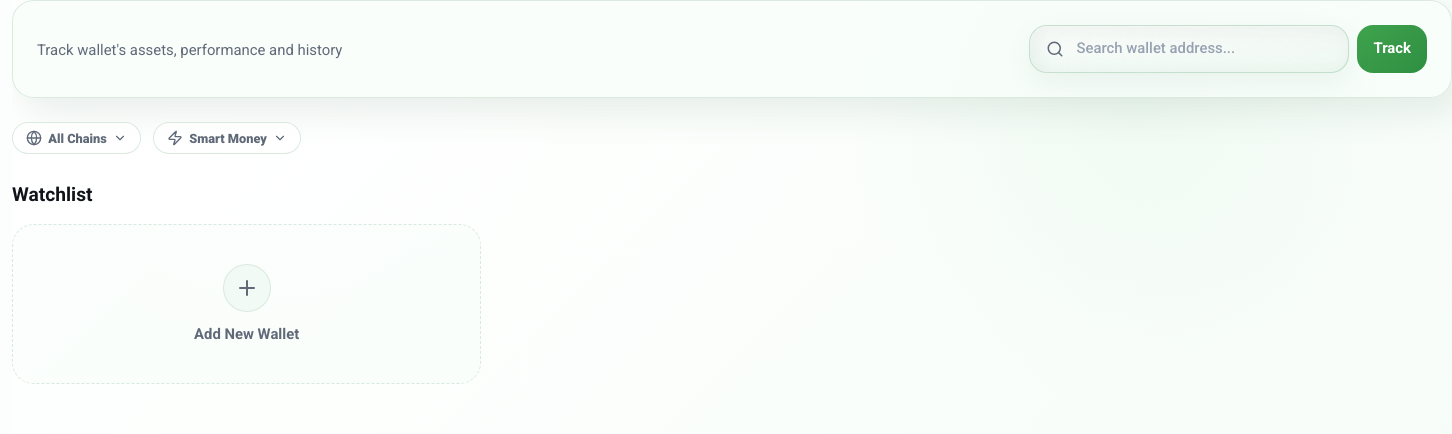
Test case: WalletTracking page › shows an error for invalid wallet search input
Type "0x123" into the field with placeholder "Search wallet address...".
click(1204, 49); type("0x123")  # box [1076,38,1332,60]
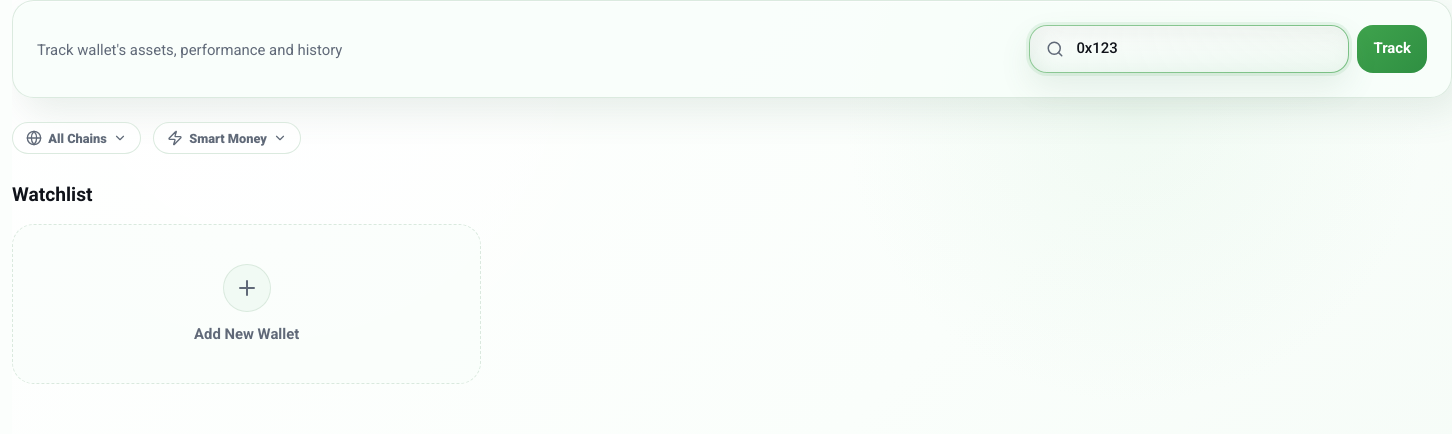
Click the button "Track".
click(1392, 49)  # box [1357,25,1427,73]
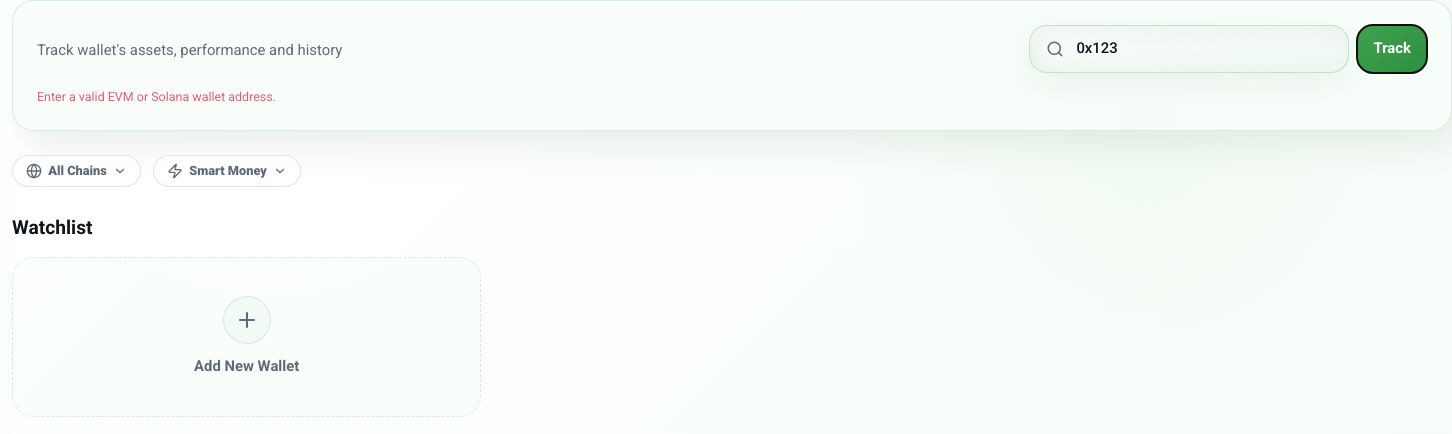
Now the text "Enter a valid EVM or Solana wallet address." is shown, box [37,89,276,104]
